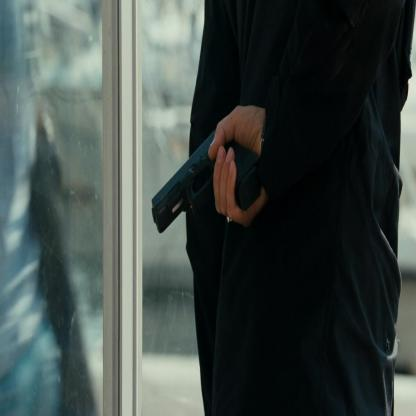gun: (137, 112, 268, 244)
